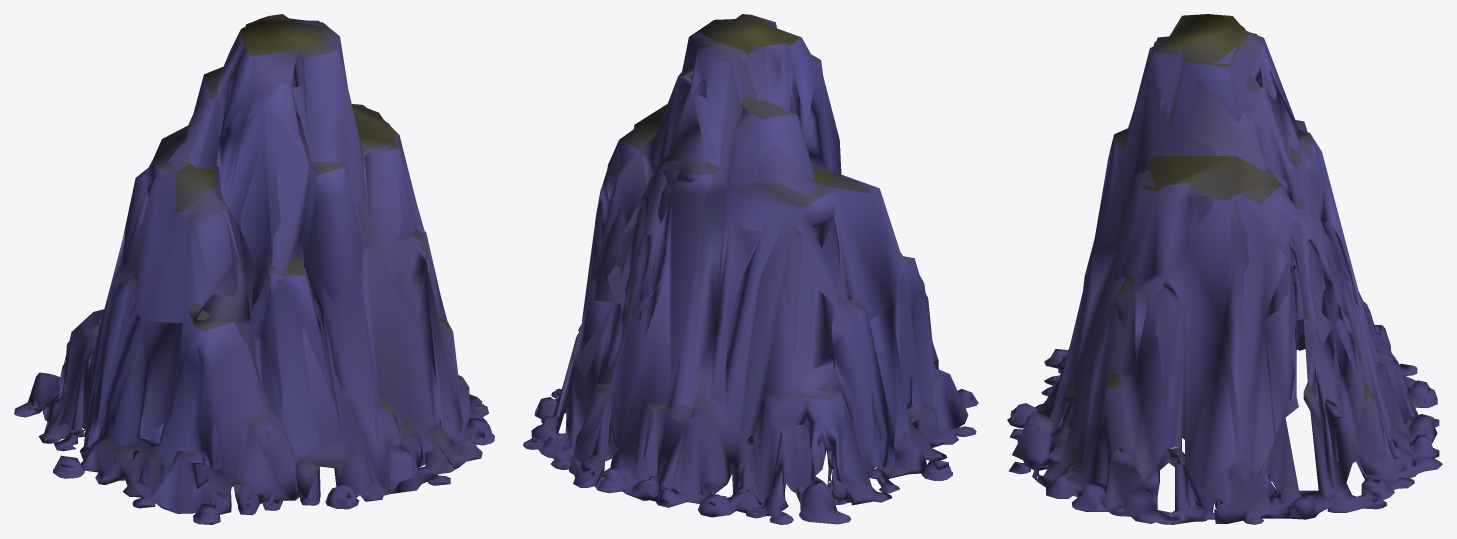
File: model.progressive.glb
3 renders of one model, left to right at view 1: azimuth 30°, elevation 25°; view 2: azimuth 150°, elevation 25°; view 3: azimuth 270°, elevation 25°, orthographic. The views are drawn at different scales.
Visible parts, largest first — view 1: material; view 2: material; view 3: material.
Part boxes in pixels (x1,y1,x2,y2): material: (14,14,494,524); material: (523,14,978,524); material: (1007,14,1442,524).
Bounding box in the file's own units: 1.89 × 1.83 × 1.77.
Materials: 1 (1 with a texture image).
